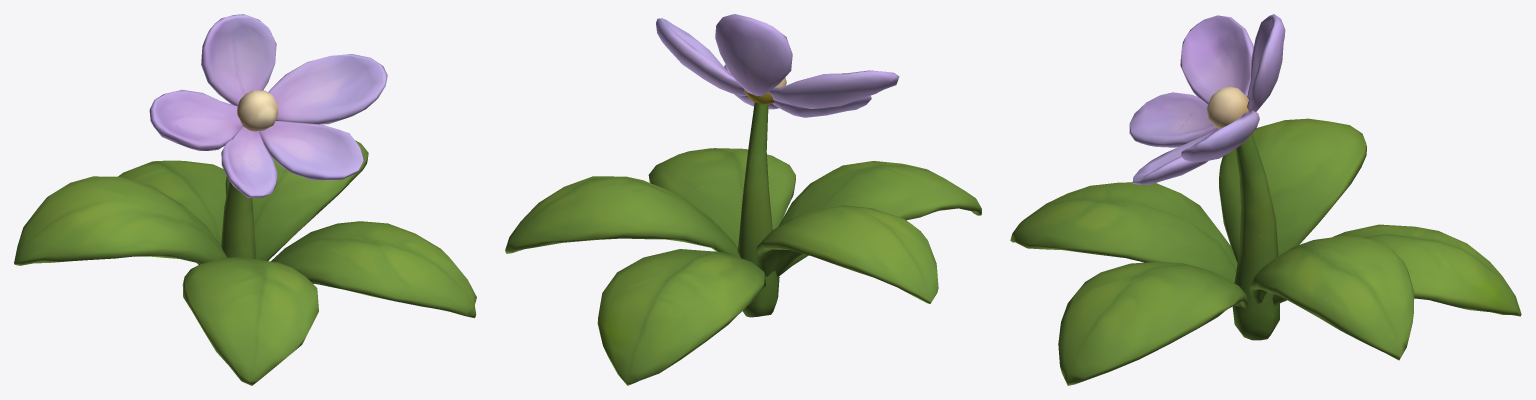
File: lirio_pantano.glb
3 renders of one model, left to right at view 1: azimuth 30°, elevation 25°; view 2: azimuth 150°, elevation 25°; view 3: azimuth 270°, elevation 25°, orthographic. The views are drawn at different scales.
Visible parts, largest first — view 1: lirio_pantano; view 2: lirio_pantano; view 3: lirio_pantano.
Boxes of the visible parts, x1,y1,x2,y2 form: lirio_pantano: (14,14,476,385); lirio_pantano: (505,14,981,385); lirio_pantano: (1010,14,1521,385).
Bounding box in the file's own units: 0.4103 × 0.3083 × 0.4486.
1 material, 1 textured.
